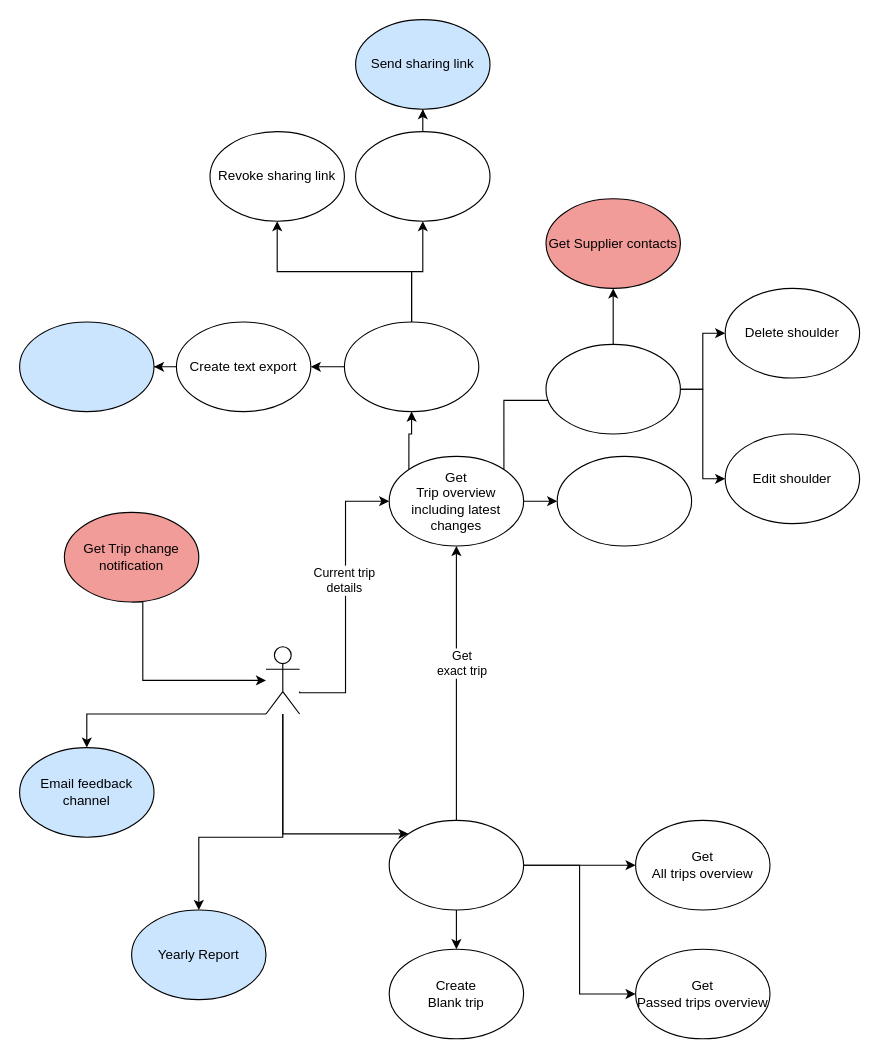
Some shapes in this 879 by 1058 pixel diagram are drawn without their labels. The centre of each missing label's shape, as x and y in pixels:
"Create new shoulder" belongs at (x=624, y=500).
"Create sharing link" belongs at (x=422, y=175).
"Get current/next shoulder details" belongs at (x=612, y=388).
"Get Upcoming trips overview" belongs at (x=456, y=864).
"Observe sharings" belongs at (x=411, y=366).
"Send text booking export" belongs at (x=86, y=366).
"Traveller" belongs at (x=282, y=680).
